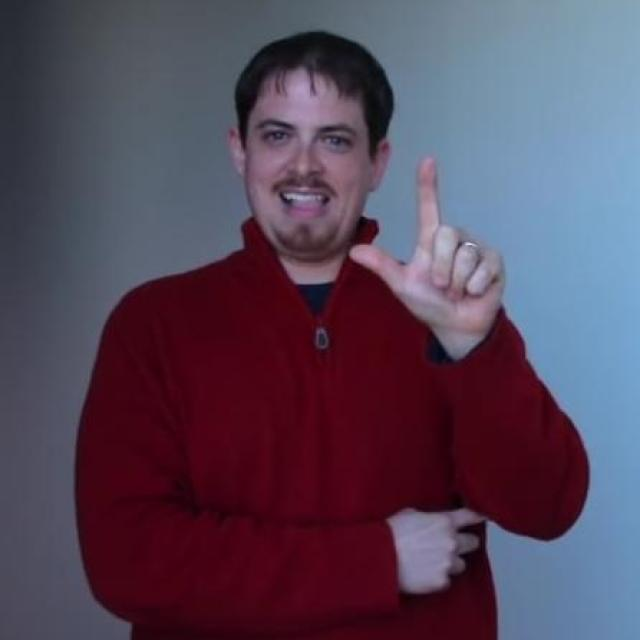L: (347, 152, 511, 335)
